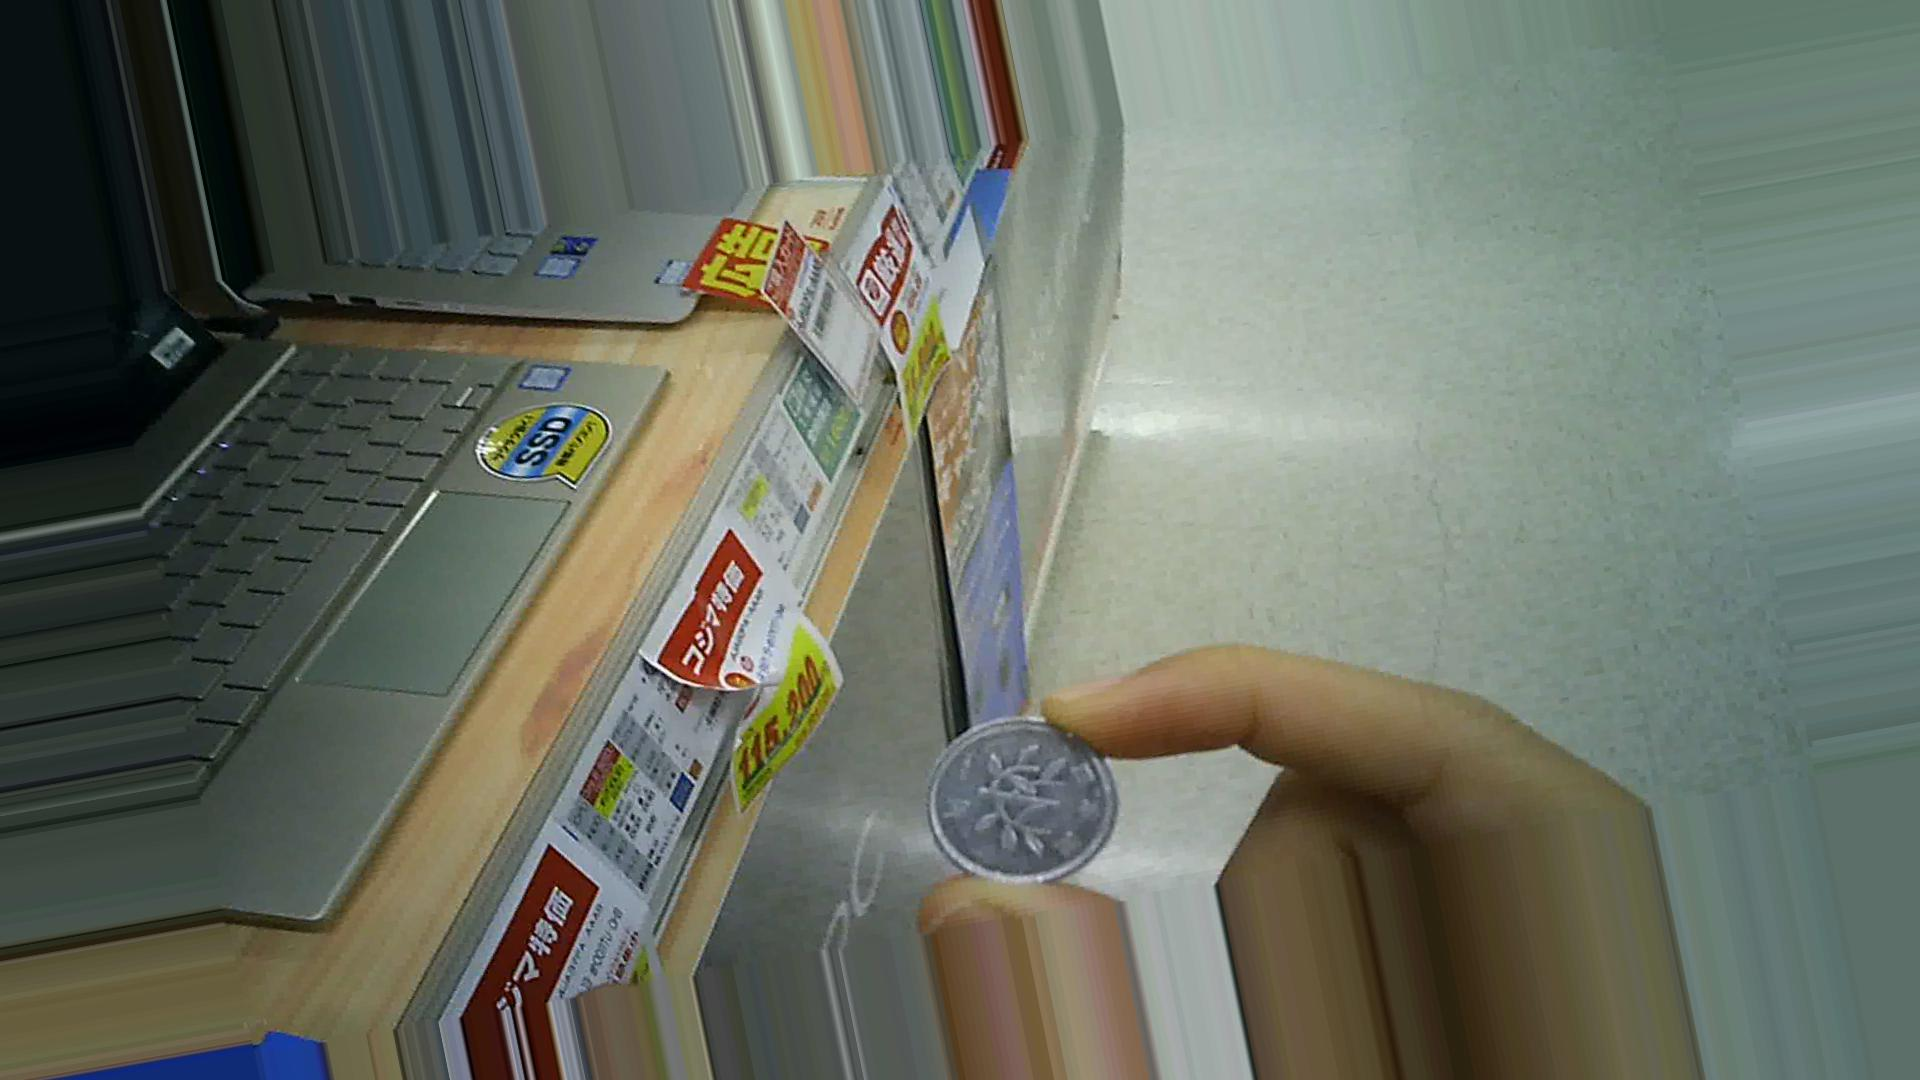1 Yen: (928, 717, 1120, 887)
